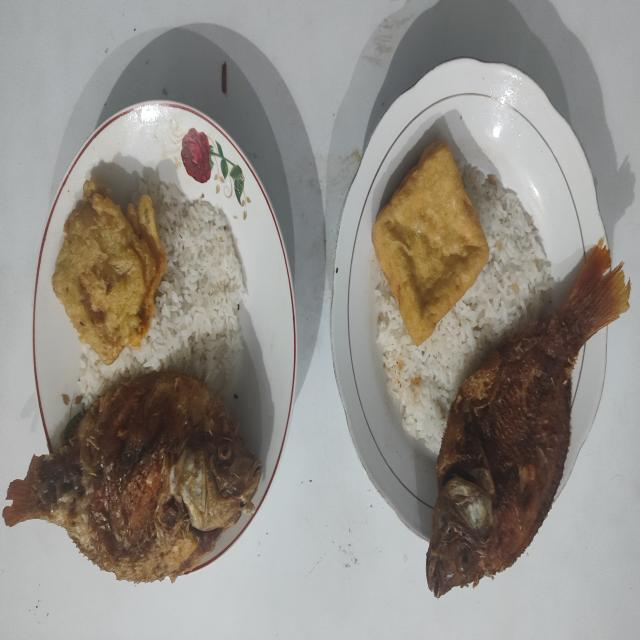ikan_mujair: (426, 248, 630, 597), (3, 372, 260, 582)
nasi_putih: (374, 164, 554, 455), (80, 174, 246, 408)
tahu_goreng: (372, 142, 489, 345)
